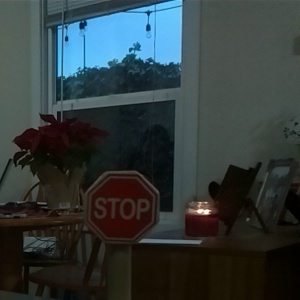stop sign: (80, 168, 164, 300)
